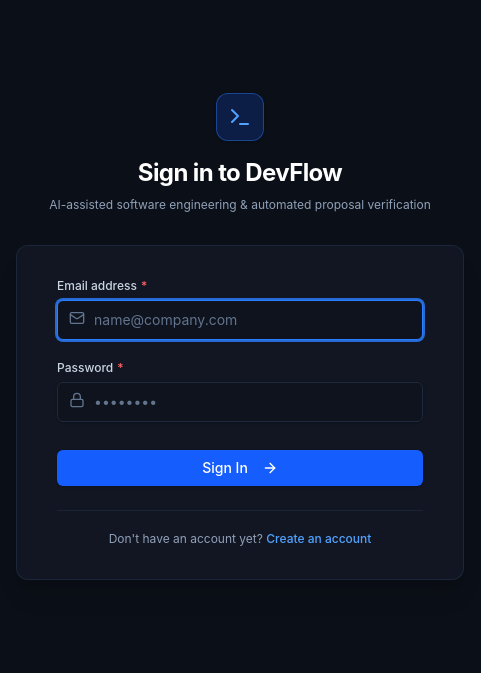
LoginPage › displays field violations when backend returns 400 validation error
The image size is (481, 673).
Type "engineer@devflow.local" into the field labelled "Email address*" at {"x": 240, "y": 320}, box [57,300,423,340]
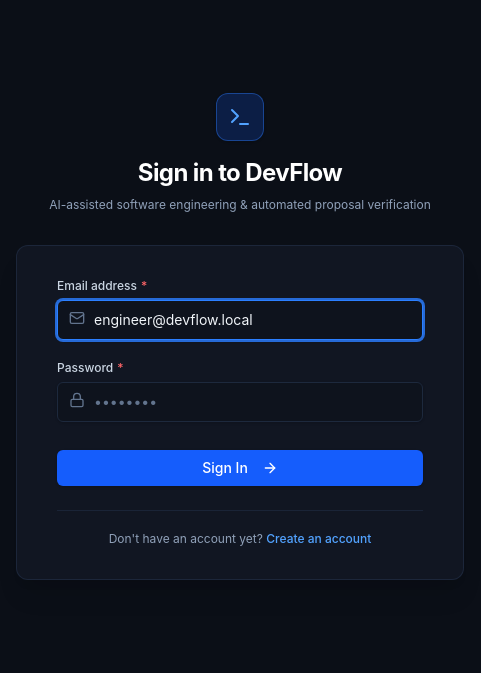
Type "password" into the password field labelled "Password*" at {"x": 240, "y": 402}, box [57,382,423,422]
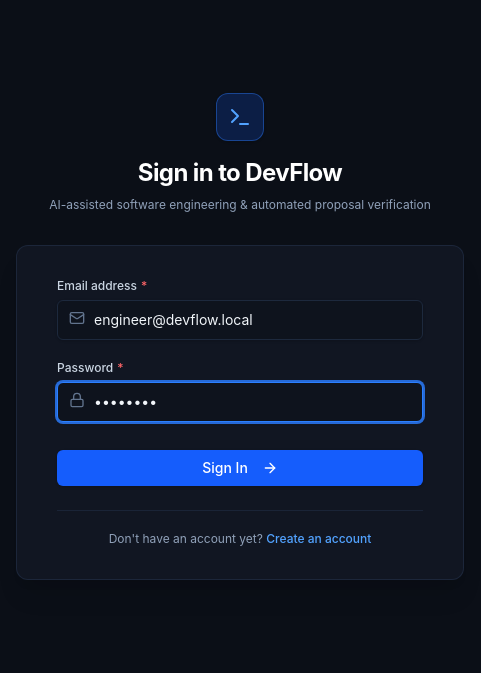
Click the button "Sign In" at {"x": 240, "y": 468}, box [57,450,423,486]
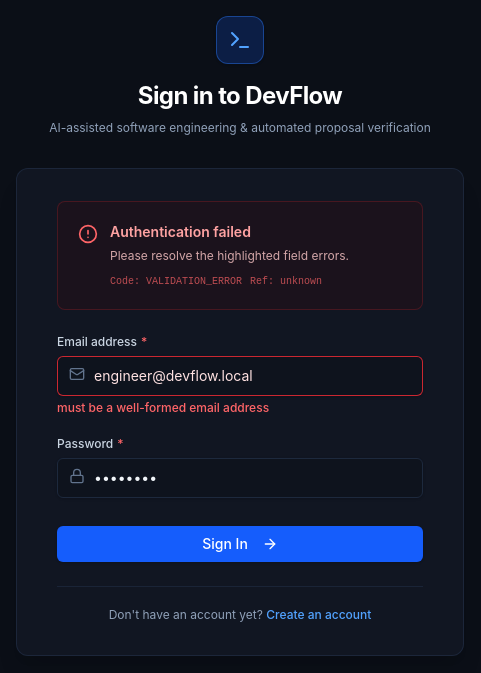
Check: the text "must be a well-formed email address" is shown, box [57,400,269,415]
